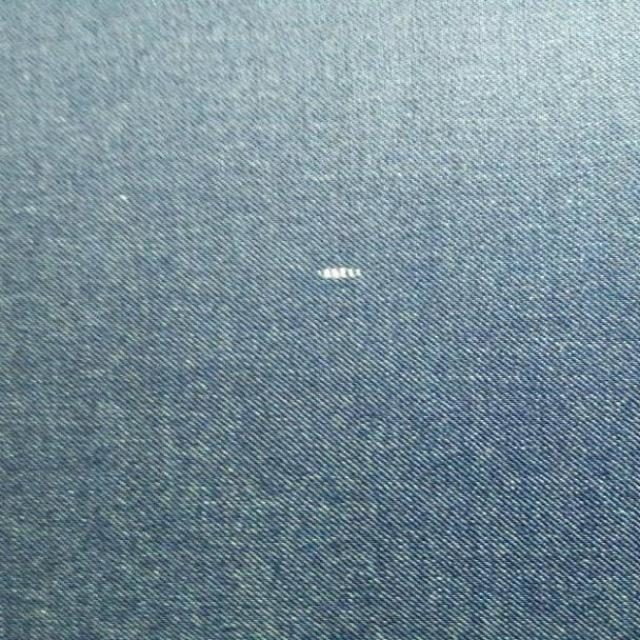Knot: (318, 267, 362, 279)
